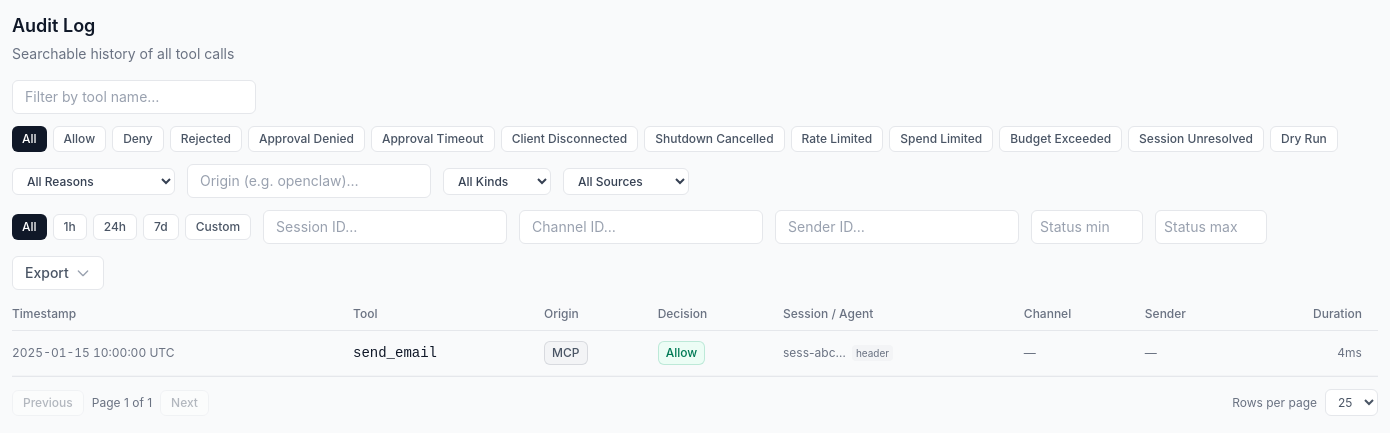
Test case: upstream attribution (issue #297) › shows the no-match copy when a record_kind filter matches zero records (#16 keys)
The image size is (1390, 433).
Expected: the text "send_email" is shown, top-left (353, 330), bottom-right (544, 376)
Select "Install Scan" in the dropdown named "Record Kind": point(497, 181) top-left (443, 168), bottom-right (551, 194)
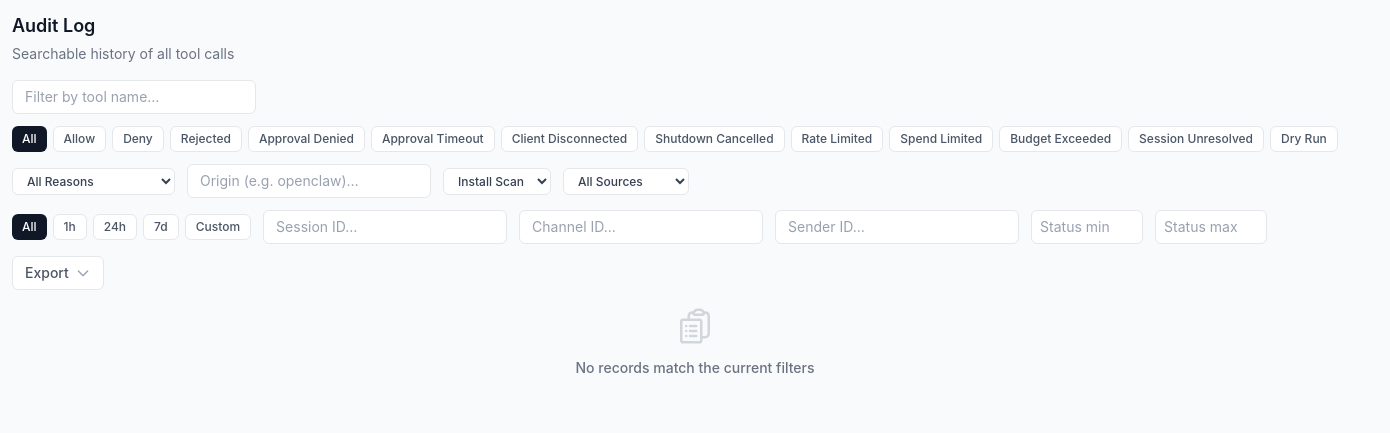
Expected: the text "No records match the current filters" is shown, top-left (576, 358), bottom-right (814, 378)
